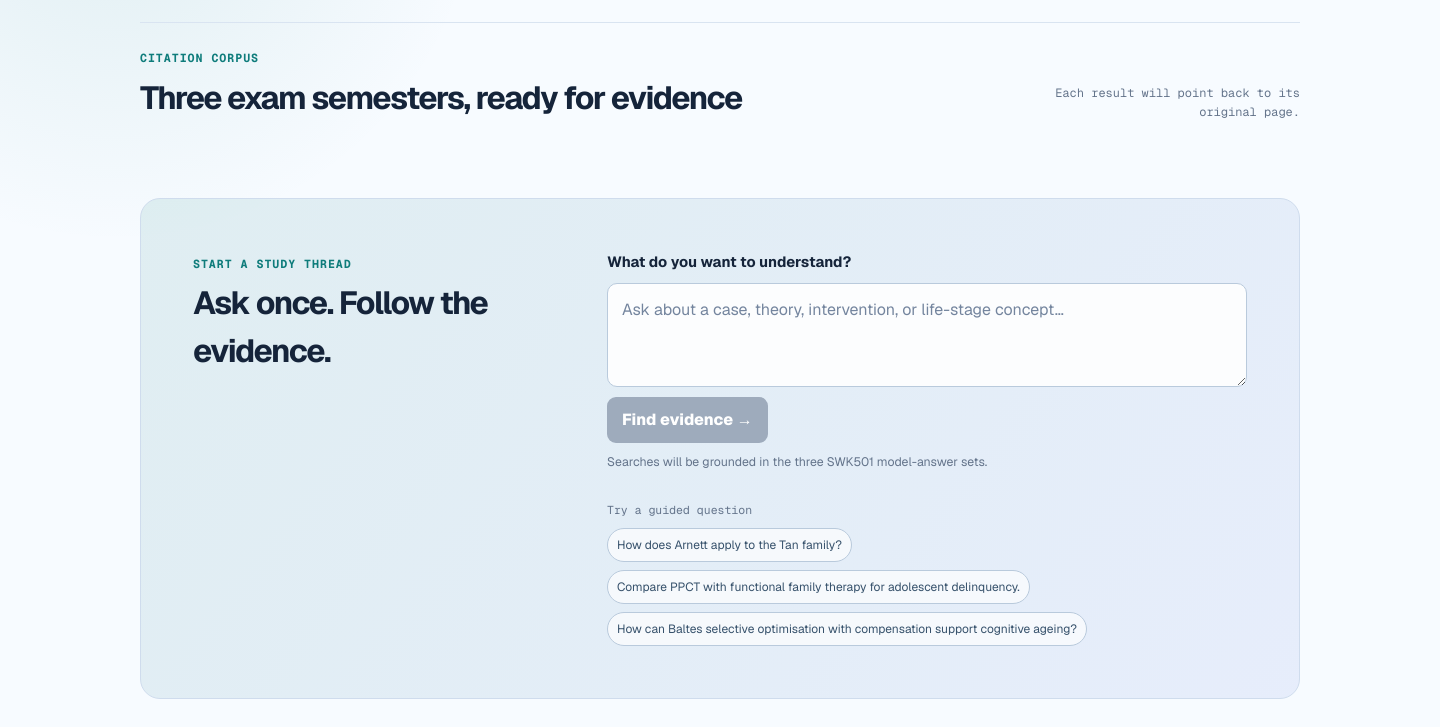
keeps unknown citation markers literal and warns on invalid completion citations
The width and height of the screenshot is (1440, 727).
(page scrolled)
Type "Explain Arnett" into the text box at (927, 335), box [607,283,1247,387]
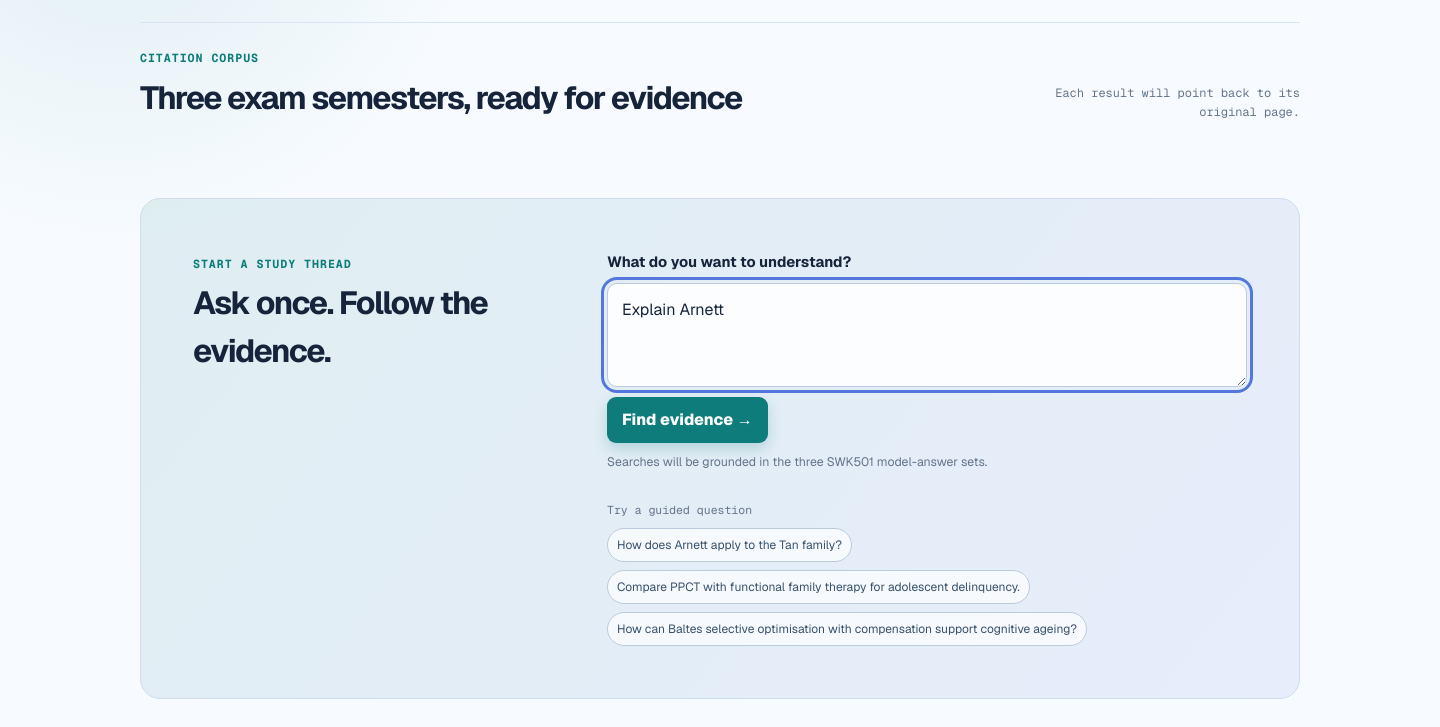
Click the button "Find evidence →" at (687, 420), box [607,397,768,443]
(page scrolled)
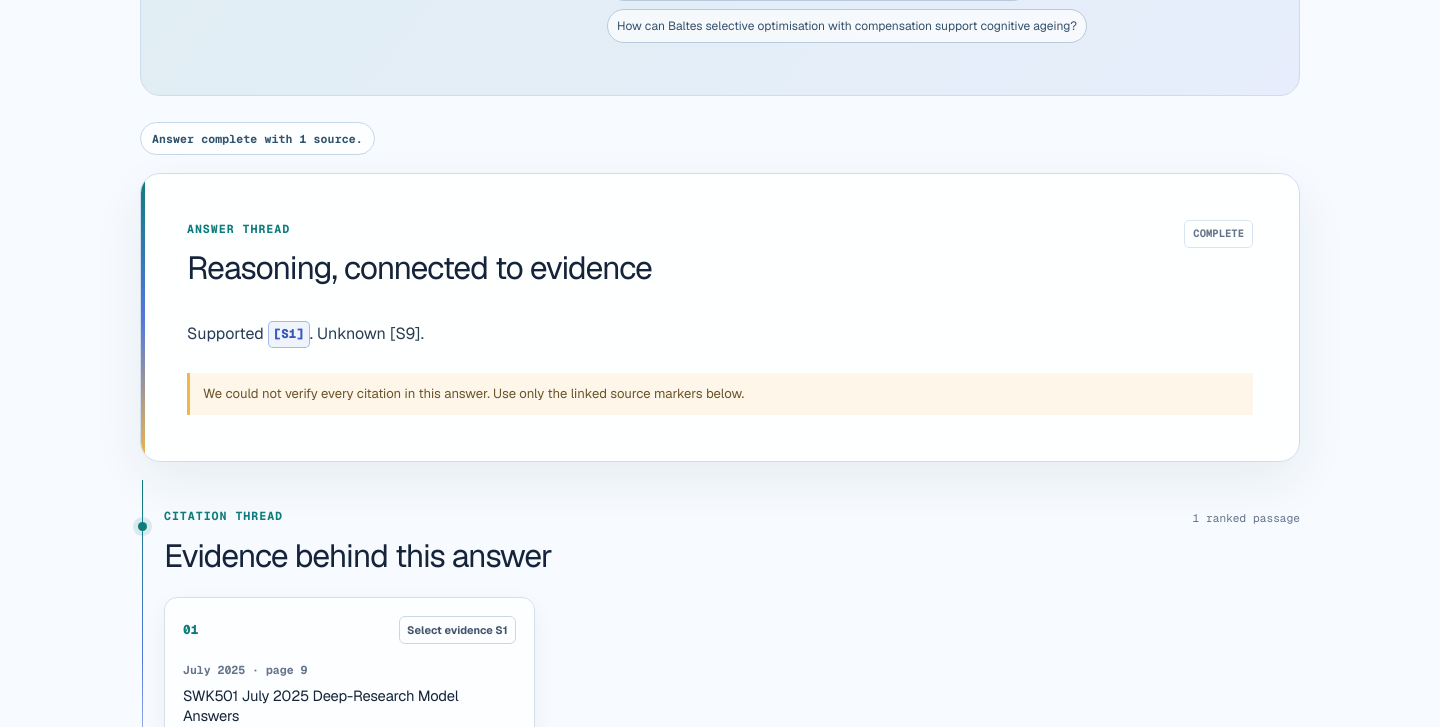
Check: the 2nd message shows "could not verify every citation", box [203,385,744,402]
Check: the button named "source s1" is shown, box [268,321,310,348]
Check: the text "Supported [S1] . Unknown [S9]." is shown, box [187,321,424,348]
